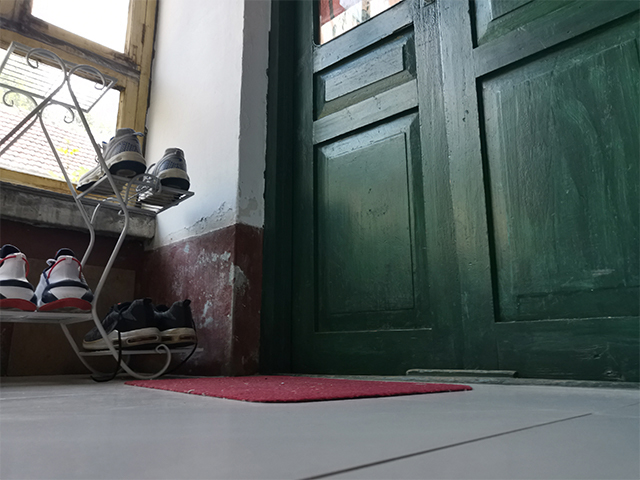carpet: (123, 374, 475, 405)
